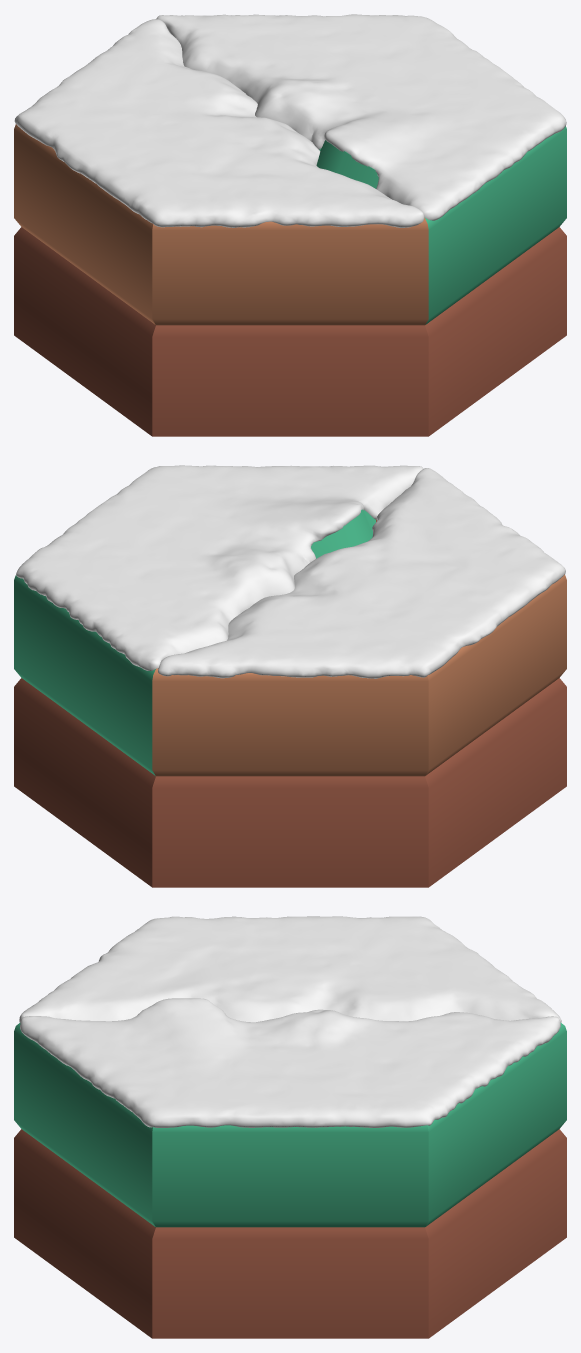
Rendered from hex_rock_transitionA.fbx.
3 views of the same model, one above another, from view 1: azimuth 30°, elevation 25°; view 2: azimuth 150°, elevation 25°; view 3: azimuth 270°, elevation 25° (orthographic).
Parts seen in each view (by area): view 1: hex_rock_transitionA.002, SnowBall.002, SnowBall.001, hex_rock_transitionA, hex_rock_transitionA.001; view 2: hex_rock_transitionA.002, SnowBall.002, SnowBall.001, hex_rock_transitionA, hex_rock_transitionA.001; view 3: hex_rock_transitionA.002, hex_rock_transitionA.001, SnowBall.002, SnowBall.001.
Boxes of the visible parts, x1,y1,x2,y2 form: hex_rock_transitionA.002: [14, 227, 566, 436]; SnowBall.002: [156, 14, 566, 220]; SnowBall.001: [14, 19, 424, 227]; hex_rock_transitionA: [14, 124, 428, 325]; hex_rock_transitionA.001: [316, 126, 566, 324]; hex_rock_transitionA.002: [14, 678, 566, 887]; SnowBall.002: [16, 465, 423, 670]; SnowBall.001: [158, 468, 565, 678]; hex_rock_transitionA: [152, 519, 566, 776]; hex_rock_transitionA.001: [14, 509, 375, 775]; hex_rock_transitionA.002: [14, 1129, 566, 1338]; hex_rock_transitionA.001: [14, 1023, 566, 1227]; SnowBall.002: [20, 998, 560, 1127]; SnowBall.001: [19, 916, 561, 1022].
Size of the model in its own units: 202 by 109 by 231.
